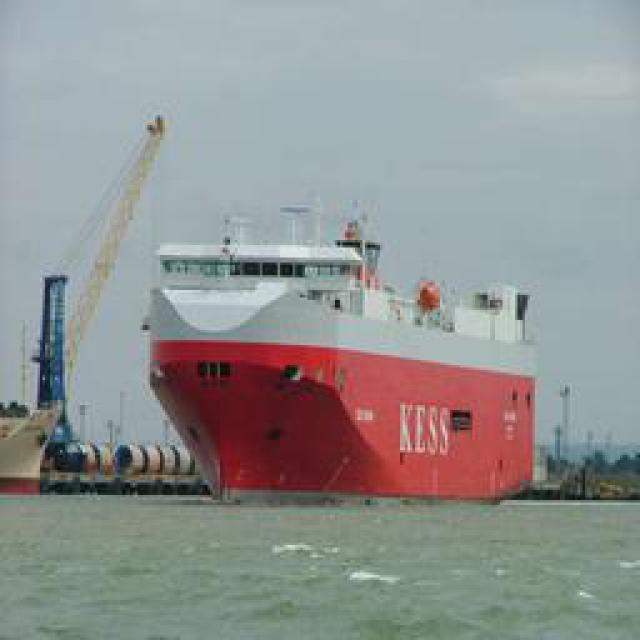Ship: (145, 197, 545, 497)
